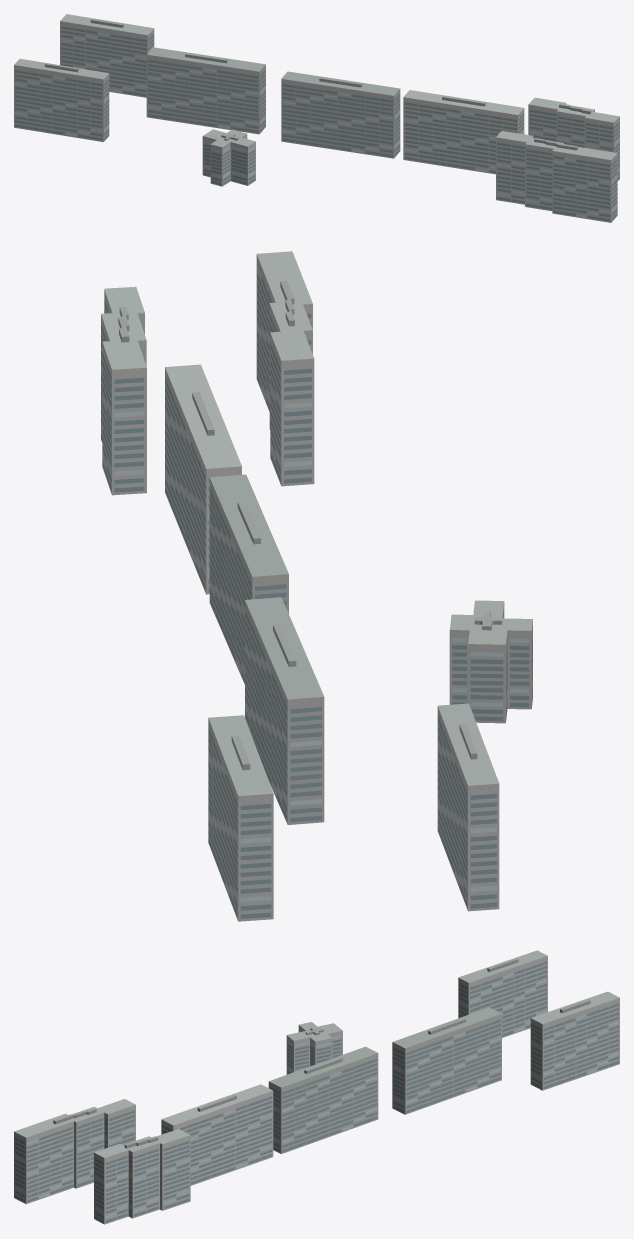
Rendered from apt-a15609005.glb.
3 views of the same model, one above another, from view 1: azimuth 30°, elevation 25°; view 2: azimuth 150°, elevation 25°; view 3: azimuth 270°, elevation 25° (orthographic). The views are drawn at different scales.
Parts seen in each view (by area): view 1: apt-a15609005; view 2: apt-a15609005; view 3: apt-a15609005.
Part boxes in pixels (x1,y1,x2,y2): apt-a15609005: (14, 14, 619, 222); apt-a15609005: (101, 251, 532, 921); apt-a15609005: (14, 950, 619, 1224).
Size of the model in its own units: 307 by 47.81 by 378.
